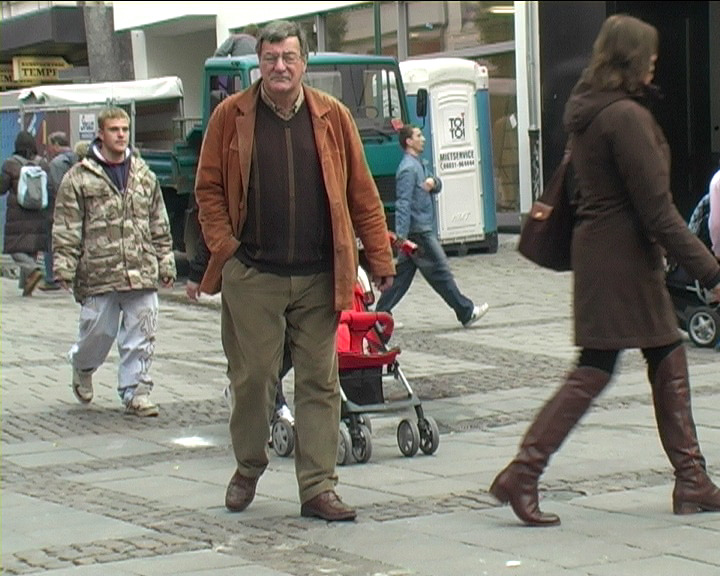undeflect: (232, 25, 347, 148), (77, 115, 159, 198)
